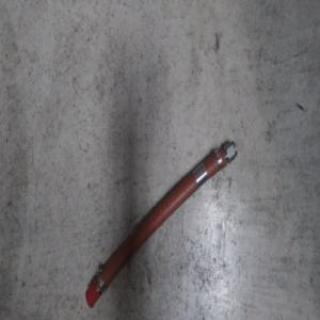Hosetrack_idkeyframe: (83, 134, 239, 310)
